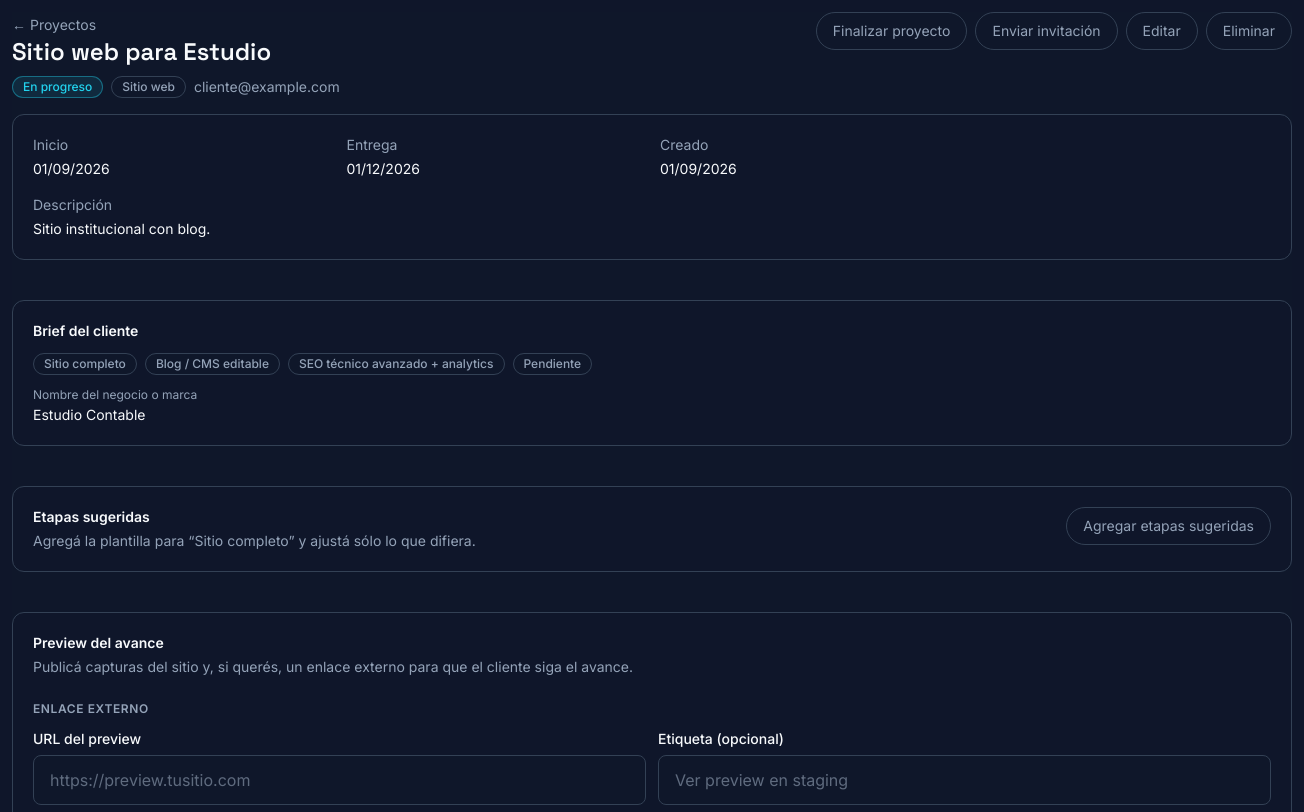
Test: ProjectDetailPage › envía invitación por magic link al cliente
Click the button "Enviar invitación" at [1047, 31], box [976, 12, 1118, 50]
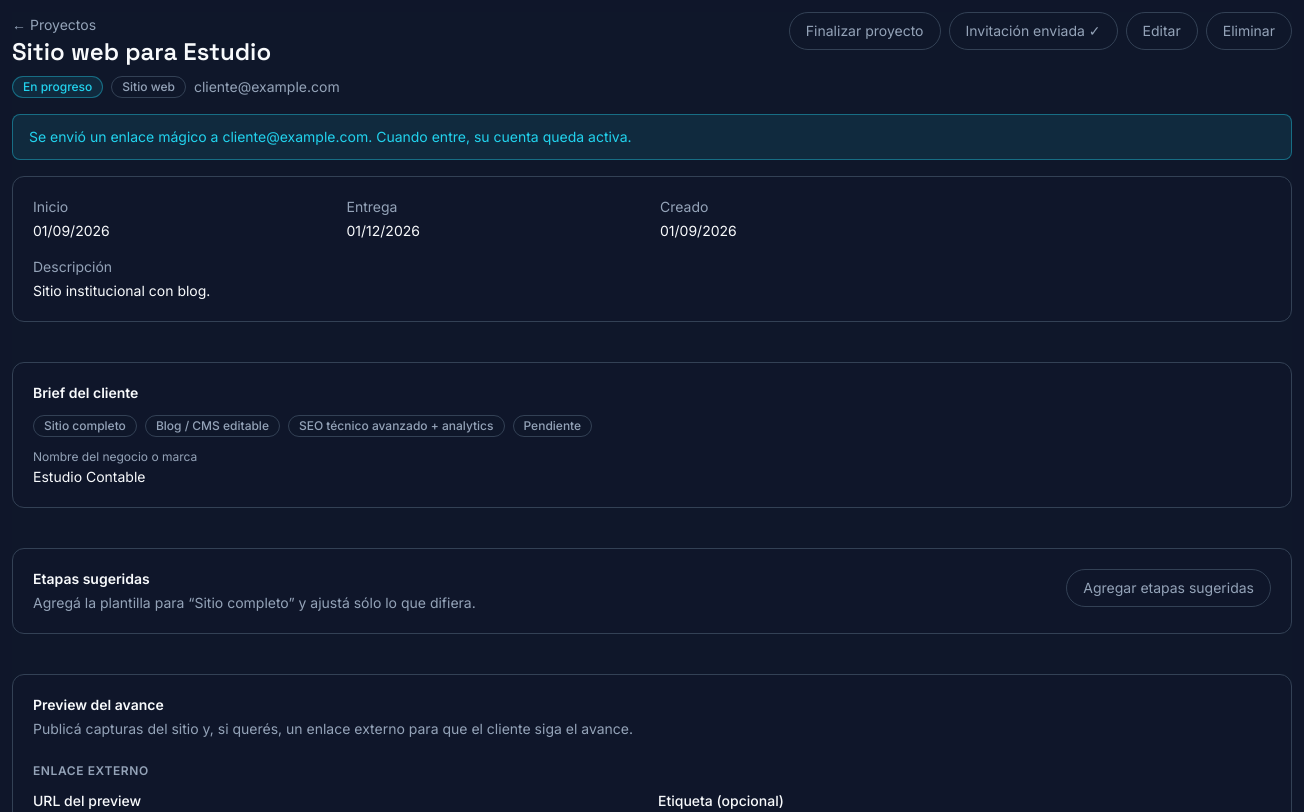
Result: the text "Se envió un enlace mágico" is shown at [29, 128, 222, 145]
